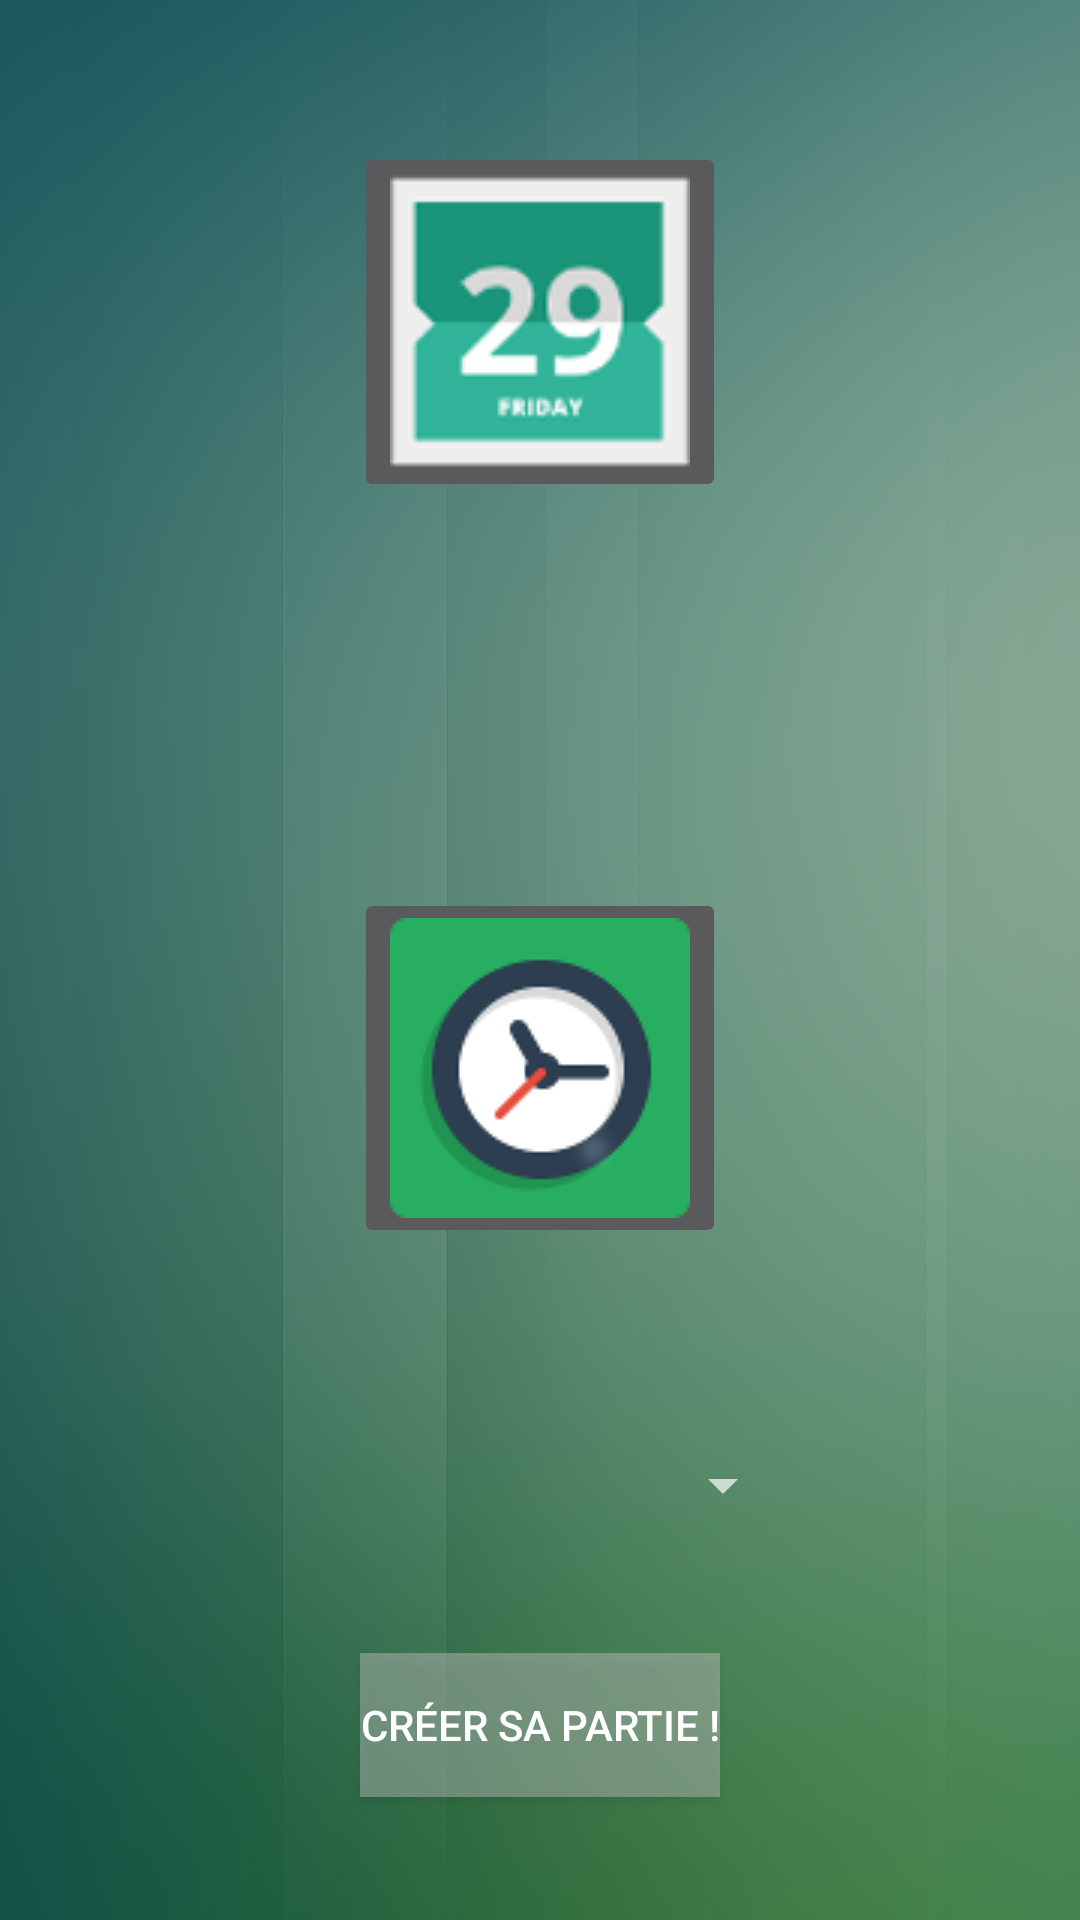

Icon click points for this 1080×1920 phone screenshot, format point (x, y):
calendar: point (534, 313)
time: point (534, 1068)
